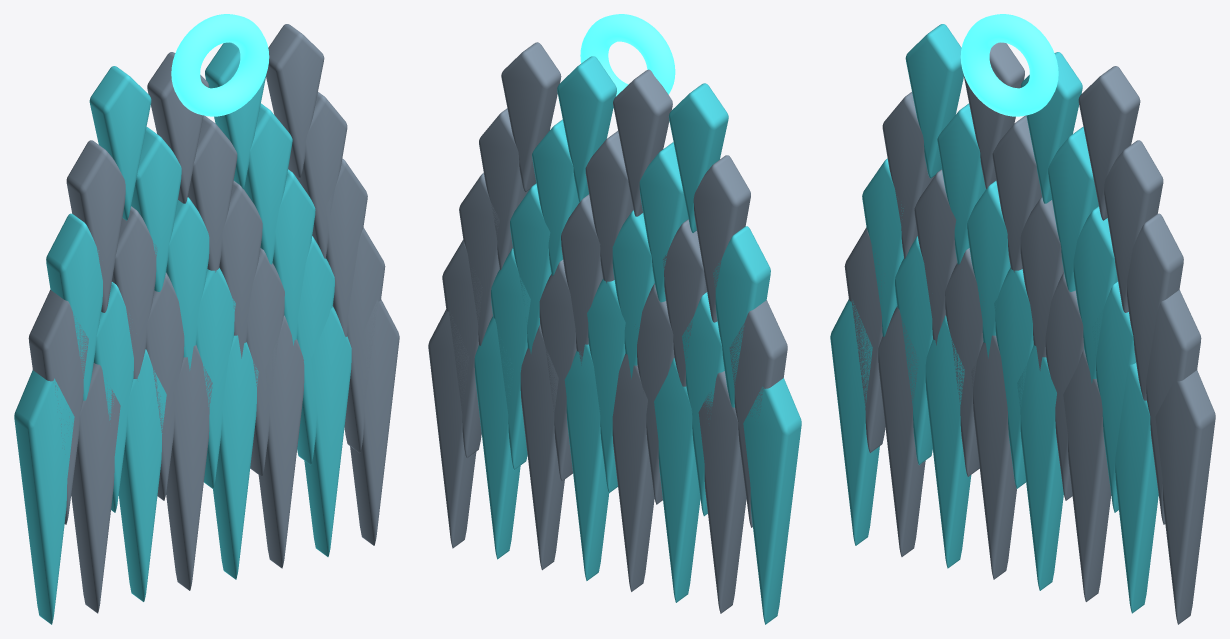
The model's file is cloak_v4.glb.
3 views of the same model, side by side, from view 1: azimuth 30°, elevation 25°; view 2: azimuth 150°, elevation 25°; view 3: azimuth 330°, elevation 25° (orthographic). The views are drawn at different scales.
Parts seen in each view (by area): view 1: MANTLE_FEATHER_ACCENT.010, MANTLE_FEATHER_PRIMARY.012, MANTLE_FEATHER_ACCENT.011, MANTLE_FEATHER_PRIMARY.013, MANTLE_FEATHER_PRIMARY.014, MANTLE_FEATHER_ACCENT.013, MANTLE_FEATHER_PRIMARY.015, MANTLE_FEATHER_ACCENT.012, FEATHER_CLASP_EMISSIVE, MANTLE_FEATHER_ACCENT.004, MANTLE_FEATHER_PRIMARY.001, MANTLE_FEATHER_PRIMARY.008 (+19 smaller); view 2: MANTLE_FEATHER_ACCENT.010, MANTLE_FEATHER_PRIMARY.012, MANTLE_FEATHER_ACCENT.011, MANTLE_FEATHER_PRIMARY.013, MANTLE_FEATHER_PRIMARY.014, MANTLE_FEATHER_ACCENT.012, MANTLE_FEATHER_PRIMARY.015, MANTLE_FEATHER_ACCENT.013, MANTLE_FEATHER_ACCENT.004, MANTLE_FEATHER_PRIMARY.001, MANTLE_FEATHER_PRIMARY.008, MANTLE_FEATHER_PRIMARY.002 (+19 smaller); view 3: MANTLE_FEATHER_PRIMARY.015, MANTLE_FEATHER_PRIMARY.014, MANTLE_FEATHER_ACCENT.012, MANTLE_FEATHER_ACCENT.013, MANTLE_FEATHER_ACCENT.011, MANTLE_FEATHER_PRIMARY.013, MANTLE_FEATHER_ACCENT.010, MANTLE_FEATHER_PRIMARY.012, FEATHER_CLASP_EMISSIVE, MANTLE_FEATHER_PRIMARY.007, MANTLE_FEATHER_ACCENT, MANTLE_FEATHER_PRIMARY.004 (+19 smaller).
Part boxes in pixels (bbox=[...]): MANTLE_FEATHER_ACCENT.010: bbox=[14, 370, 74, 624]; MANTLE_FEATHER_PRIMARY.012: bbox=[71, 363, 120, 613]; MANTLE_FEATHER_ACCENT.011: bbox=[118, 349, 166, 601]; MANTLE_FEATHER_PRIMARY.013: bbox=[166, 345, 212, 590]; MANTLE_FEATHER_PRIMARY.014: bbox=[258, 315, 304, 568]; MANTLE_FEATHER_ACCENT.013: bbox=[304, 306, 351, 556]; MANTLE_FEATHER_PRIMARY.015: bbox=[350, 299, 399, 545]; MANTLE_FEATHER_ACCENT.012: bbox=[213, 335, 258, 579]; FEATHER_CLASP_EMISSIVE: bbox=[171, 14, 269, 116]; MANTLE_FEATHER_ACCENT.004: bbox=[46, 213, 102, 400]; MANTLE_FEATHER_PRIMARY.001: bbox=[266, 24, 324, 178]; MANTLE_FEATHER_PRIMARY.008: bbox=[28, 290, 88, 524]; MANTLE_FEATHER_ACCENT.010: bbox=[743, 378, 801, 624]; MANTLE_FEATHER_PRIMARY.012: bbox=[698, 371, 746, 613]; MANTLE_FEATHER_ACCENT.011: bbox=[654, 358, 700, 602]; MANTLE_FEATHER_PRIMARY.013: bbox=[612, 353, 654, 591]; MANTLE_FEATHER_PRIMARY.014: bbox=[520, 325, 564, 570]; MANTLE_FEATHER_ACCENT.012: bbox=[564, 344, 609, 580]; MANTLE_FEATHER_PRIMARY.015: bbox=[428, 309, 476, 548]; MANTLE_FEATHER_ACCENT.013: bbox=[474, 316, 520, 559]; MANTLE_FEATHER_ACCENT.004: bbox=[713, 226, 770, 407]; MANTLE_FEATHER_PRIMARY.001: bbox=[501, 42, 561, 192]; MANTLE_FEATHER_PRIMARY.008: bbox=[729, 300, 787, 527]; MANTLE_FEATHER_PRIMARY.002: bbox=[693, 155, 750, 322]; MANTLE_FEATHER_PRIMARY.015: bbox=[1155, 370, 1215, 624]; MANTLE_FEATHER_PRIMARY.014: bbox=[1063, 349, 1111, 601]; MANTLE_FEATHER_ACCENT.012: bbox=[1017, 345, 1063, 590]; MANTLE_FEATHER_ACCENT.013: bbox=[1115, 363, 1158, 613]; MANTLE_FEATHER_ACCENT.011: bbox=[925, 315, 971, 568]; MANTLE_FEATHER_PRIMARY.013: bbox=[971, 335, 1016, 579]; MANTLE_FEATHER_ACCENT.010: bbox=[830, 299, 879, 545]; MANTLE_FEATHER_PRIMARY.012: bbox=[878, 306, 925, 556]; FEATHER_CLASP_EMISSIVE: bbox=[960, 14, 1058, 116]; MANTLE_FEATHER_PRIMARY.007: bbox=[1127, 213, 1183, 400]; MANTLE_FEATHER_ACCENT: bbox=[905, 24, 963, 178]; MANTLE_FEATHER_PRIMARY.004: bbox=[1104, 140, 1163, 312].
Bounding box in the file's own units: 1.93 × 2.86 × 0.265.
